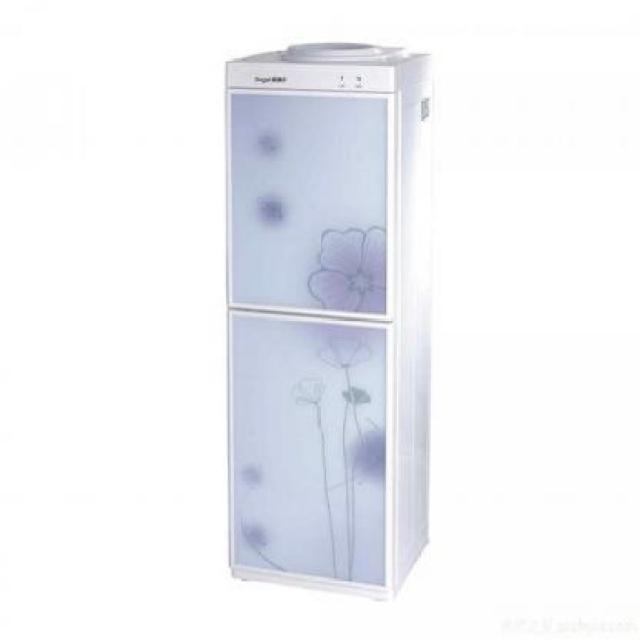cooler: (220, 37, 432, 604)
